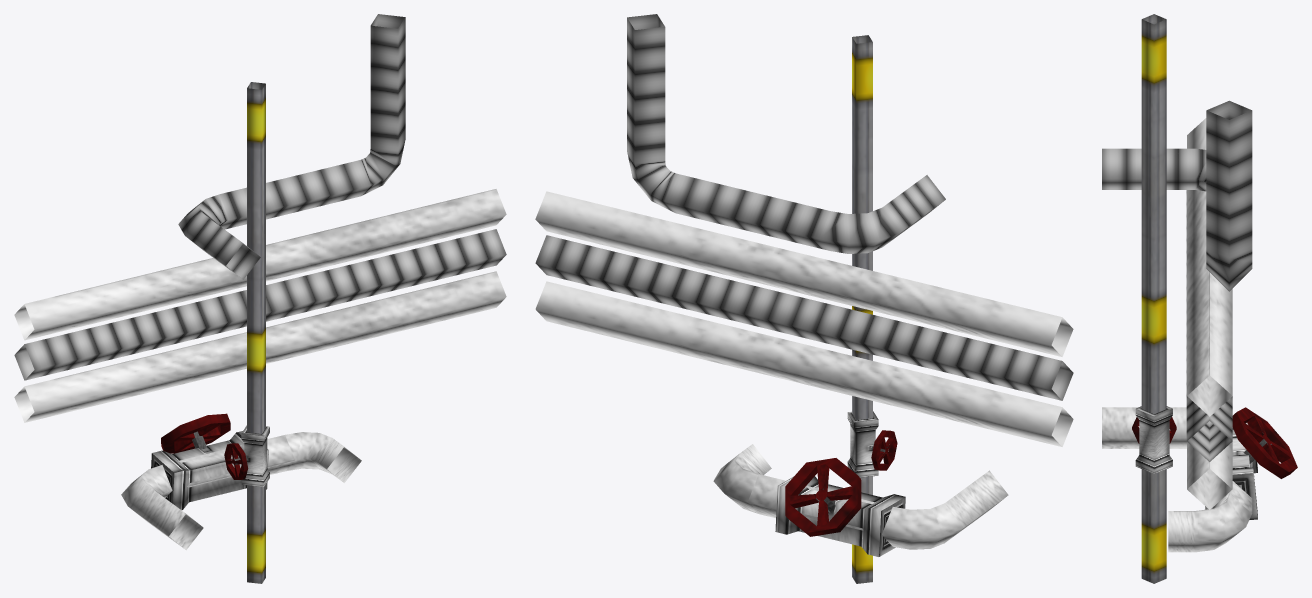
File: Obj_Pipes_Small_2.FBX
The picture shows the model from 3 angles, left to right: view 1: azimuth 30°, elevation 25°; view 2: azimuth 150°, elevation 25°; view 3: azimuth 270°, elevation 25°; orthographic projection. The views are drawn at different scales.
Parts seen in each view (by area): view 1: PipesSmall_2; view 2: PipesSmall_2; view 3: PipesSmall_2.
Boxes of the visible parts, x1,y1,x2,y2 form: PipesSmall_2: (14, 14, 506, 583); PipesSmall_2: (535, 14, 1073, 583); PipesSmall_2: (1102, 14, 1297, 583).
Bounding box in the file's own units: 4 × 4 × 1.27.
